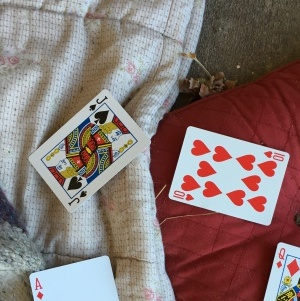card: (28, 89, 151, 212), (168, 125, 290, 226)
